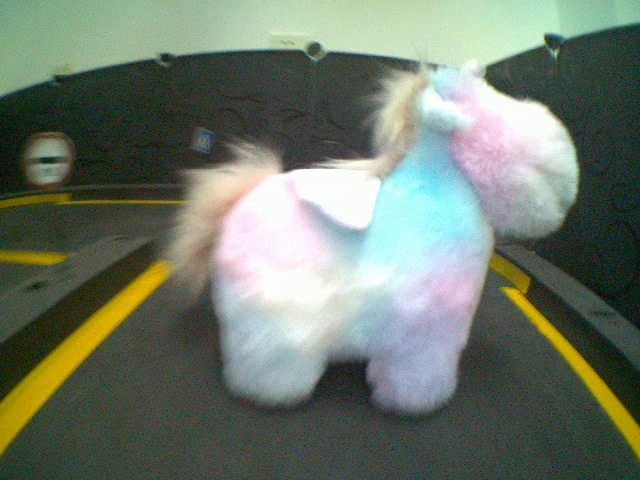unicorn: (165, 50, 582, 422)
